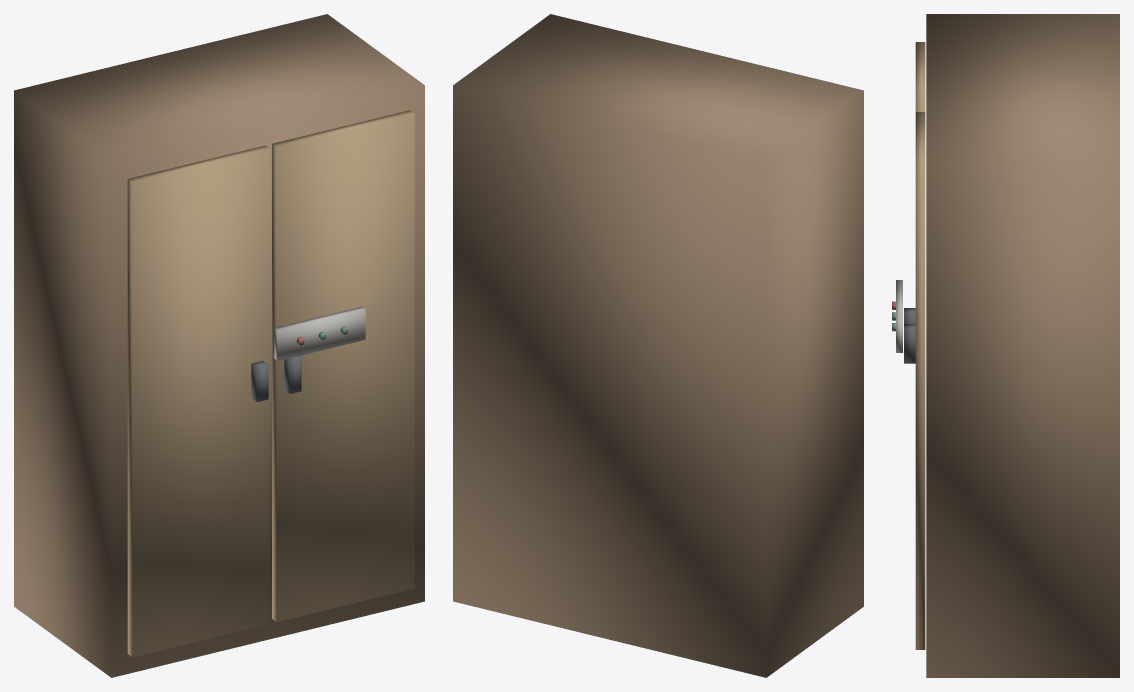
Rendered from map_cabinet__compact.glb.
The picture shows the model from 3 angles, left to right: view 1: azimuth 30°, elevation 25°; view 2: azimuth 150°, elevation 25°; view 3: azimuth 270°, elevation 25°; orthographic projection.
Visible parts, largest first — view 1: world; view 2: world; view 3: world.
Boxes of the visible parts, x1,y1,x2,y2 form: world: (14, 14, 424, 677); world: (453, 14, 863, 677); world: (892, 14, 1119, 677).
Bounding box in the file's own units: 0.798 × 1.26 × 0.5061.
